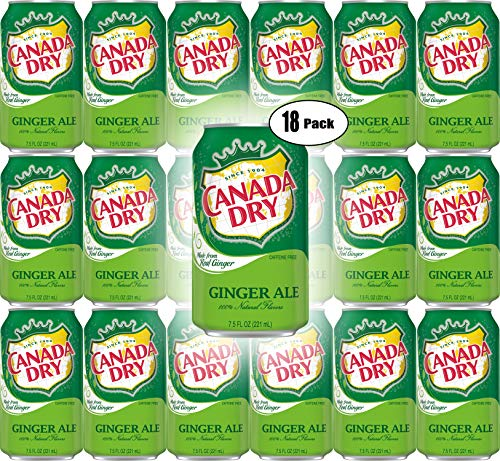Lata: (2, 1, 84, 156)
